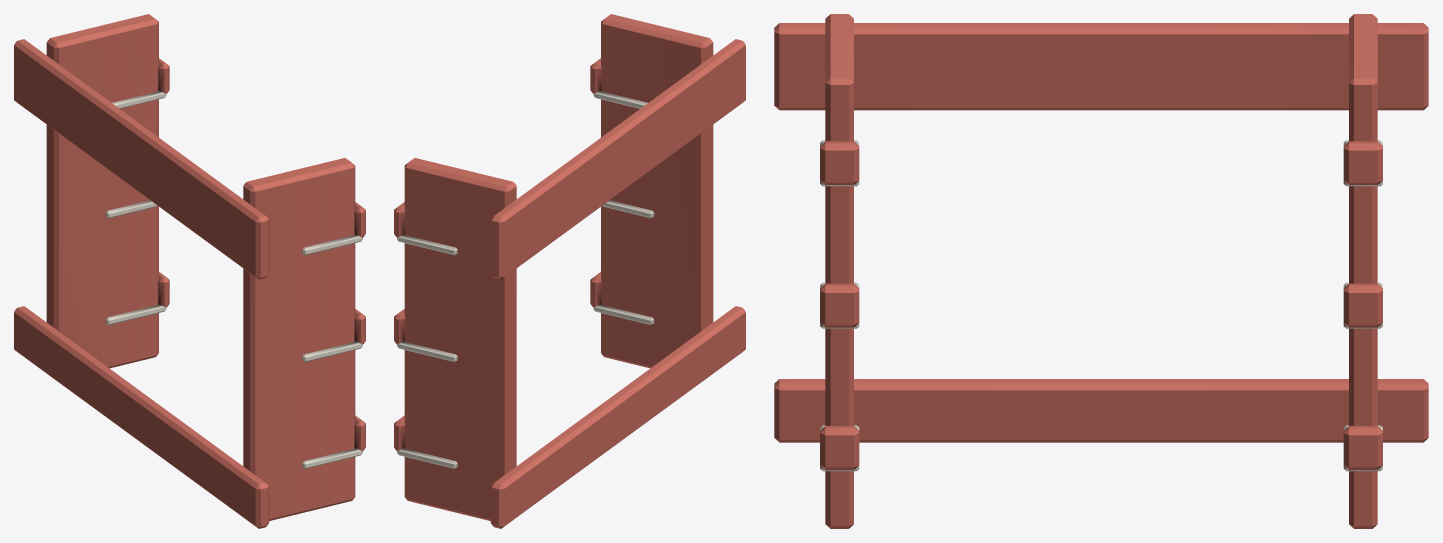
The model's file is nd_rod_rack.glb.
3 renders of one model, left to right at view 1: azimuth 30°, elevation 25°; view 2: azimuth 150°, elevation 25°; view 3: azimuth 270°, elevation 25°, orthographic. The views are drawn at different scales.
Visible parts, largest first — view 1: PART; view 2: PART; view 3: PART.
Boxes of the visible parts, x1=… form: PART: x1=14, y1=14, x2=365, y2=528; PART: x1=394, y1=14, x2=745, y2=528; PART: x1=774, y1=14, x2=1428, y2=528.
Bounding box in the file's own units: 0.15 × 0.38 × 0.5.
